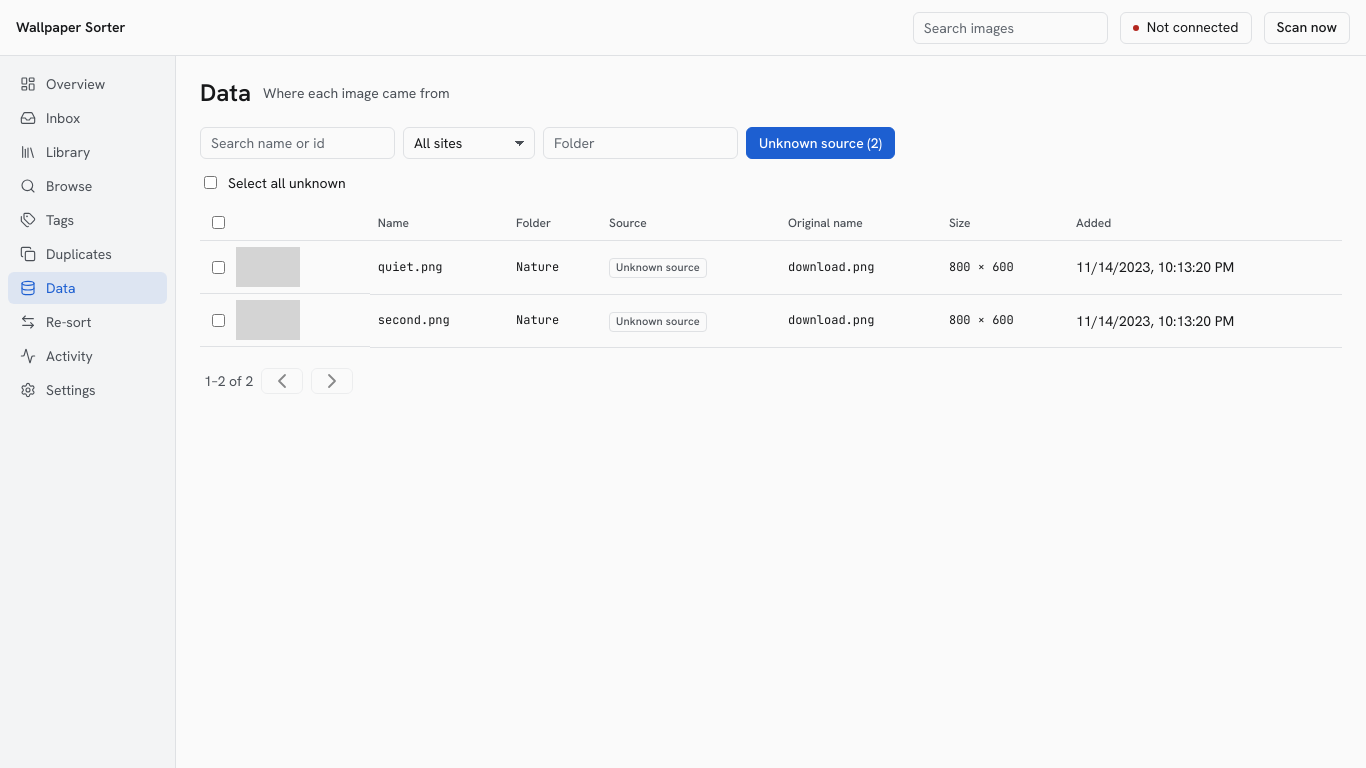
Test case: selects unknown records and saves one source with individual optional IDs
This screenshot has width=1366, height=768.
Expected: the heading "Data" is shown, [200,76,251,111]
Click the button "Unknown source (2)": (820, 143) [746,127,895,159]
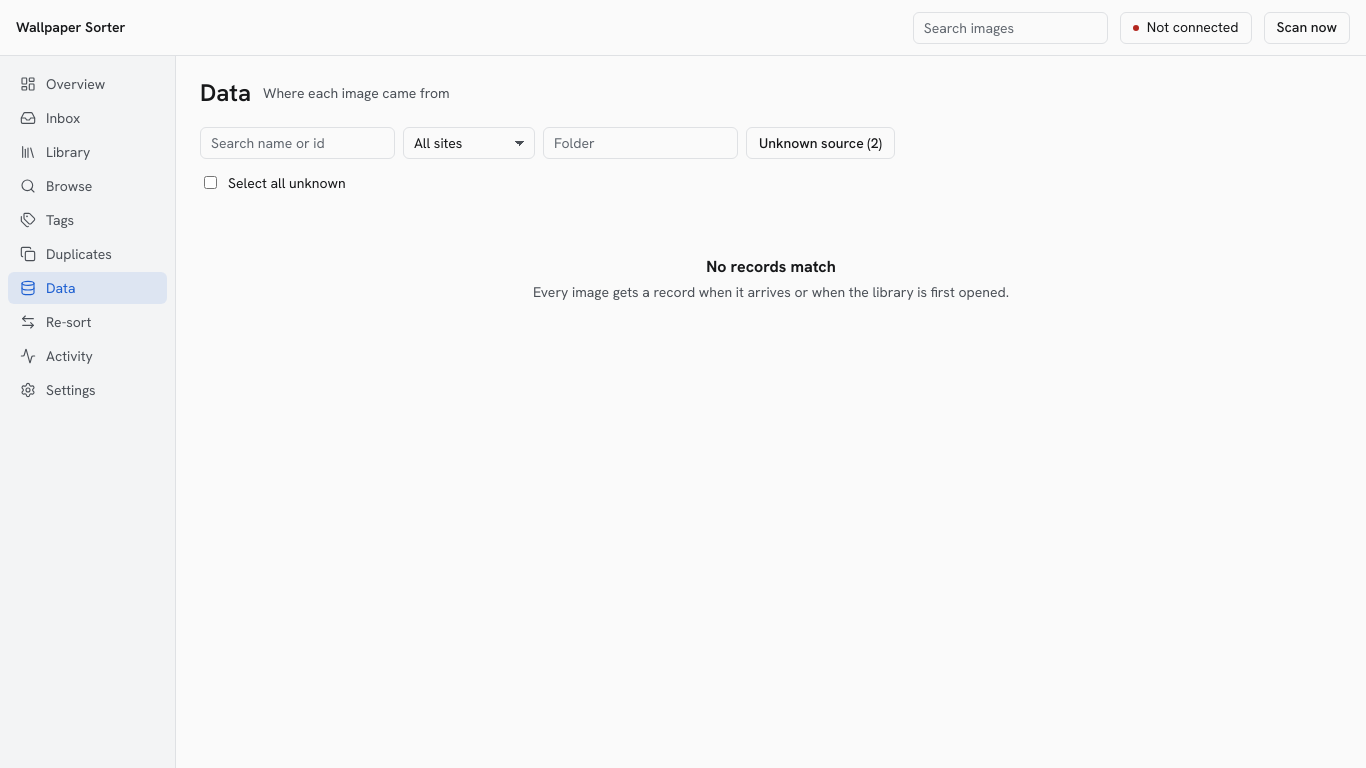
Click the checkbox named "Select all unknown records": (210, 183) [204,176,217,189]
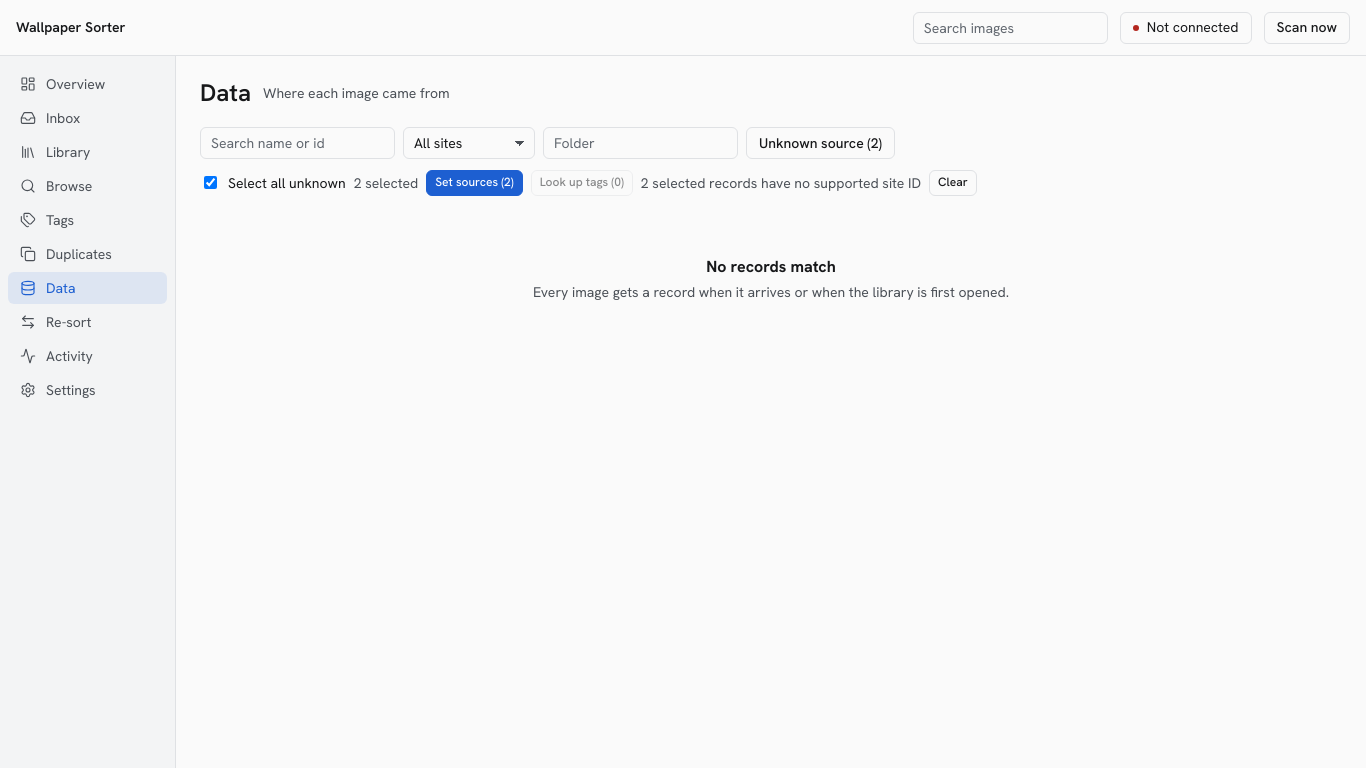
Click the button "Set sources (2)": (474, 183) [426,170,523,196]
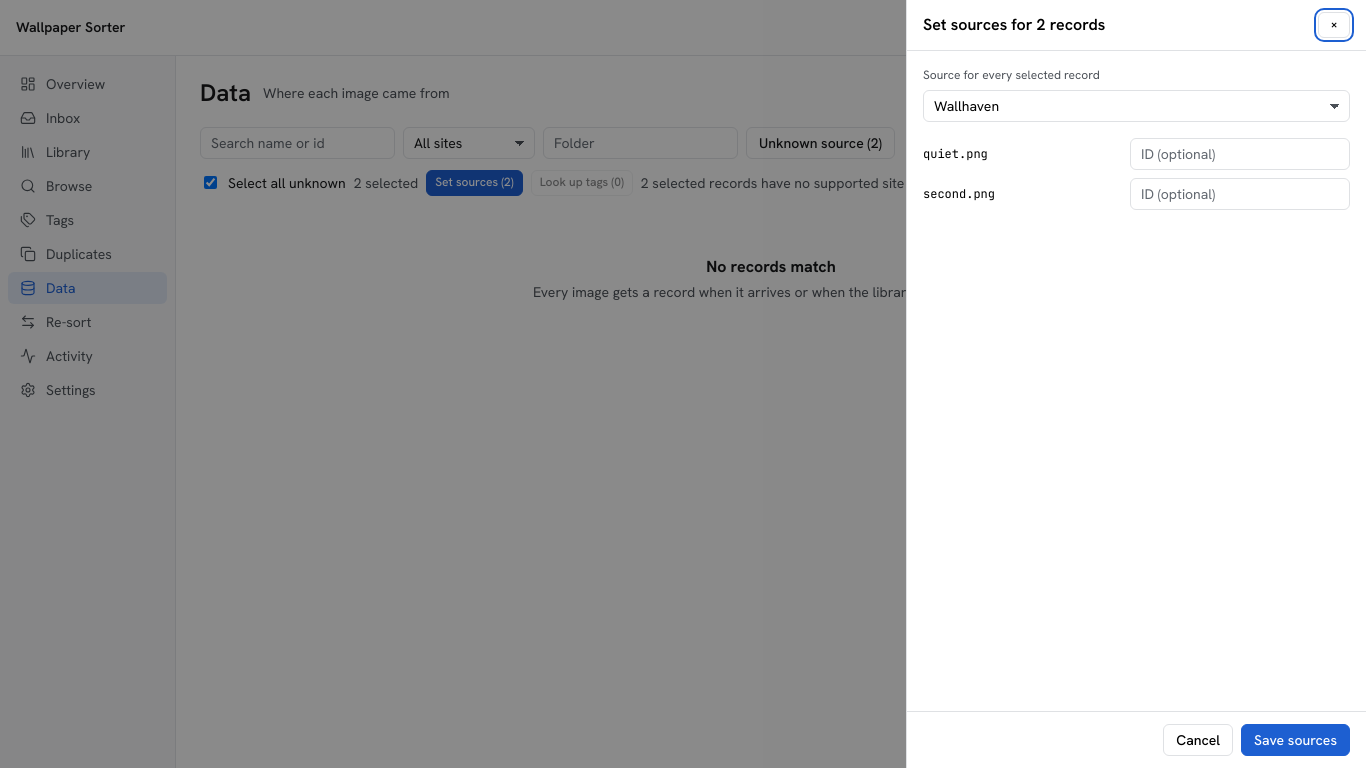
Select "Zerochan" in the dropdown named "Batch source": (1136, 106) [923,90,1350,122]
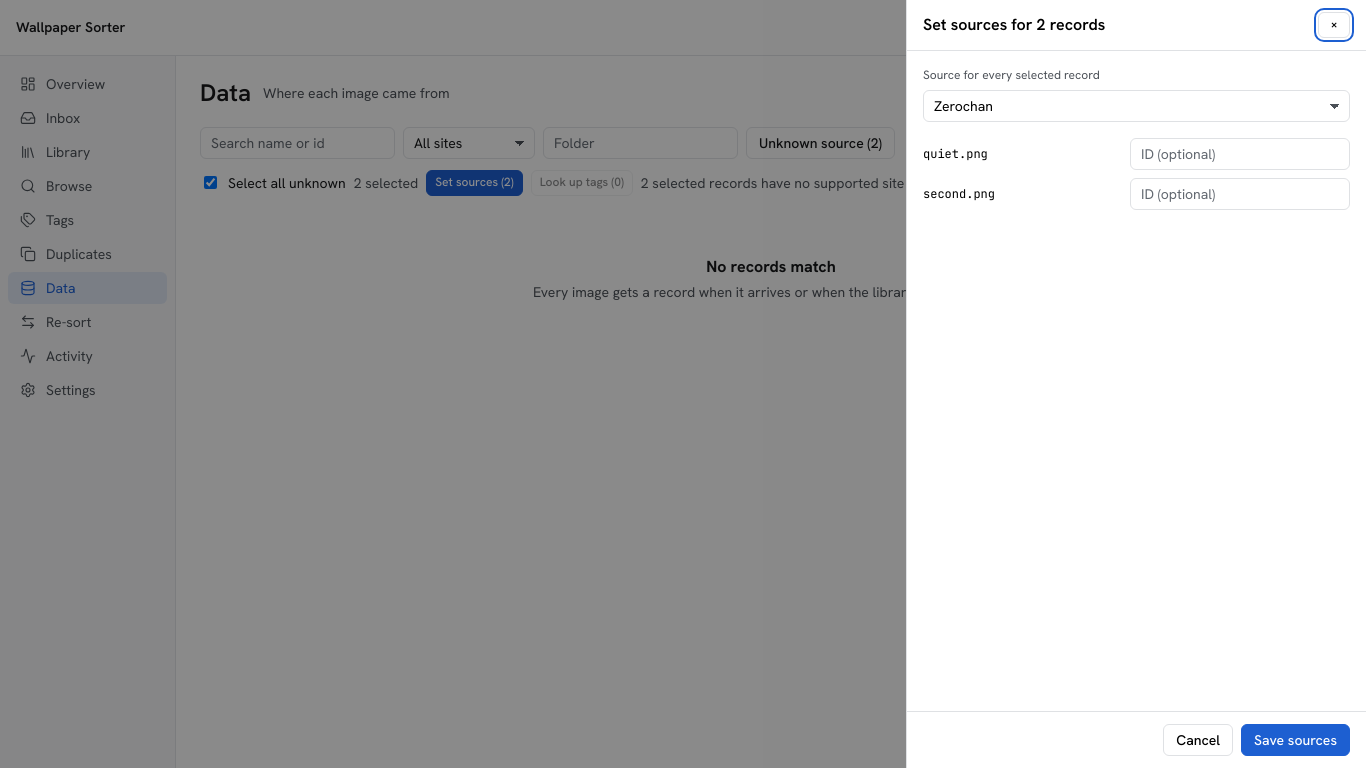
In the field named "ID for quiet.png": (1240, 154) [1130,138,1350,170], type "12345"
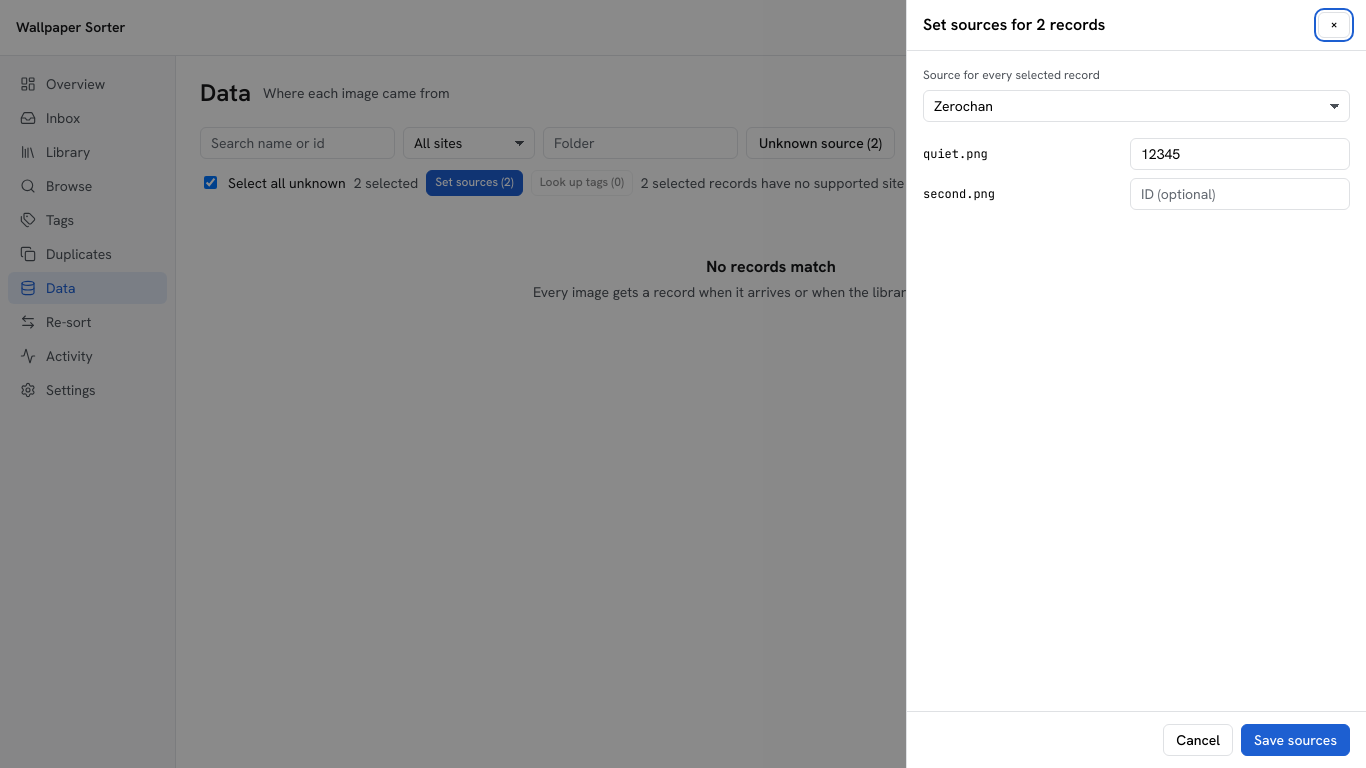
Click the button "Save sources": (1296, 740) [1241,724,1350,756]
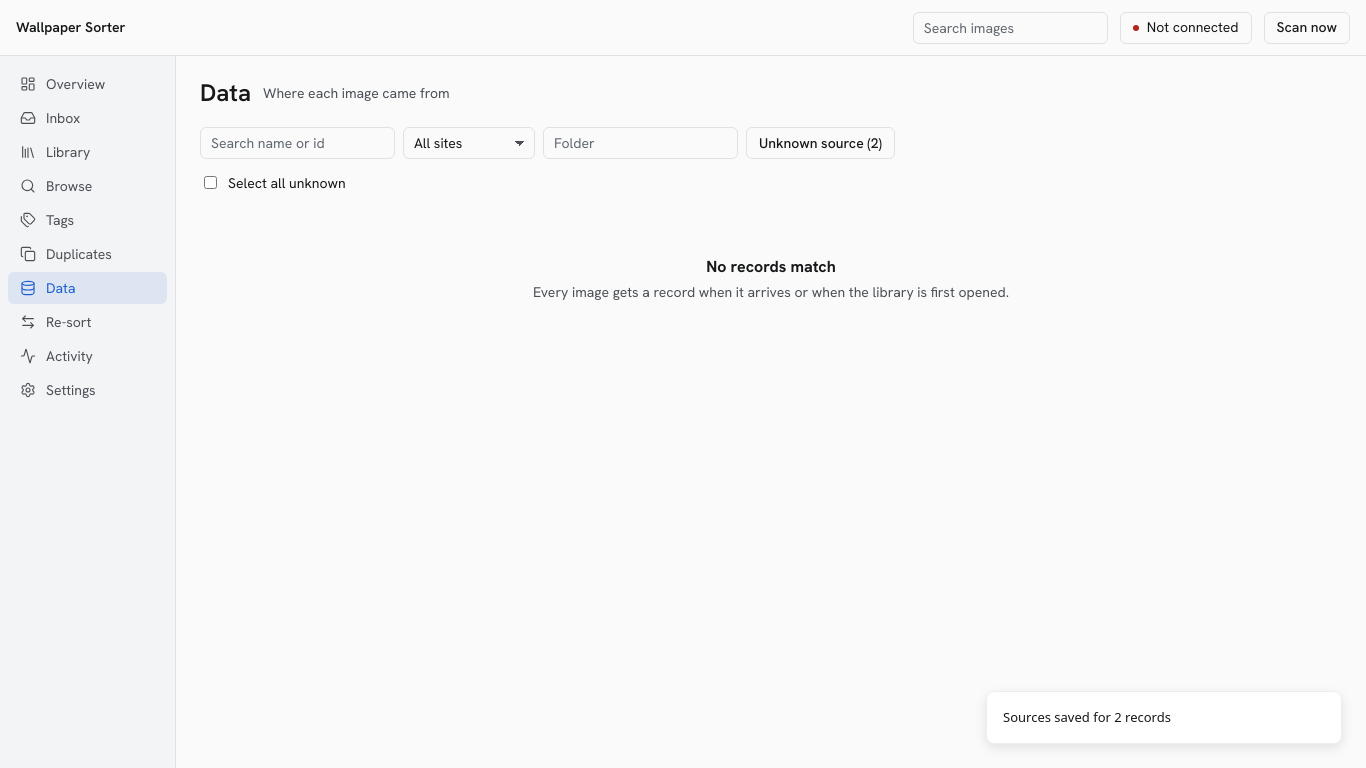
Expected: the heading "Set sources for 2 records" is gone
